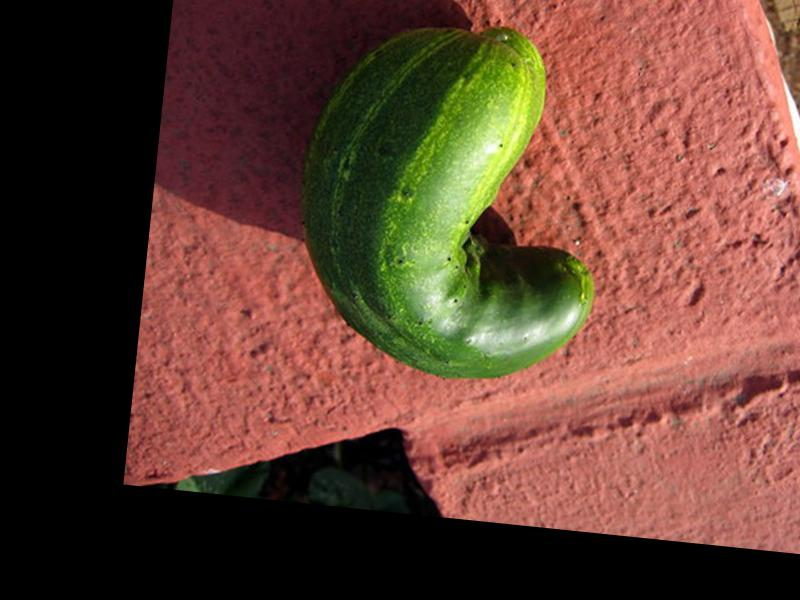Cucumber: (286, 10, 623, 391)
